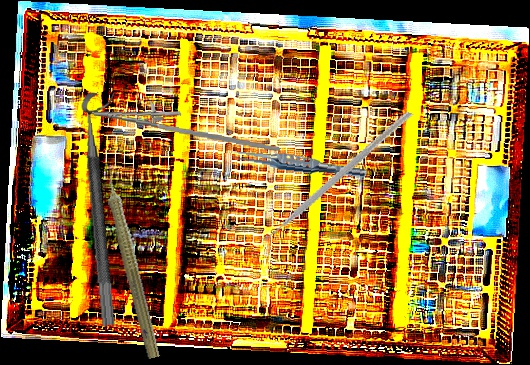Chopper: (248, 78, 414, 271)
Fixation Ring: (79, 90, 136, 327)
Handpiece: (97, 163, 168, 360)
Needle Holder: (89, 95, 284, 153)
Tissue Forceps: (229, 146, 369, 182)
